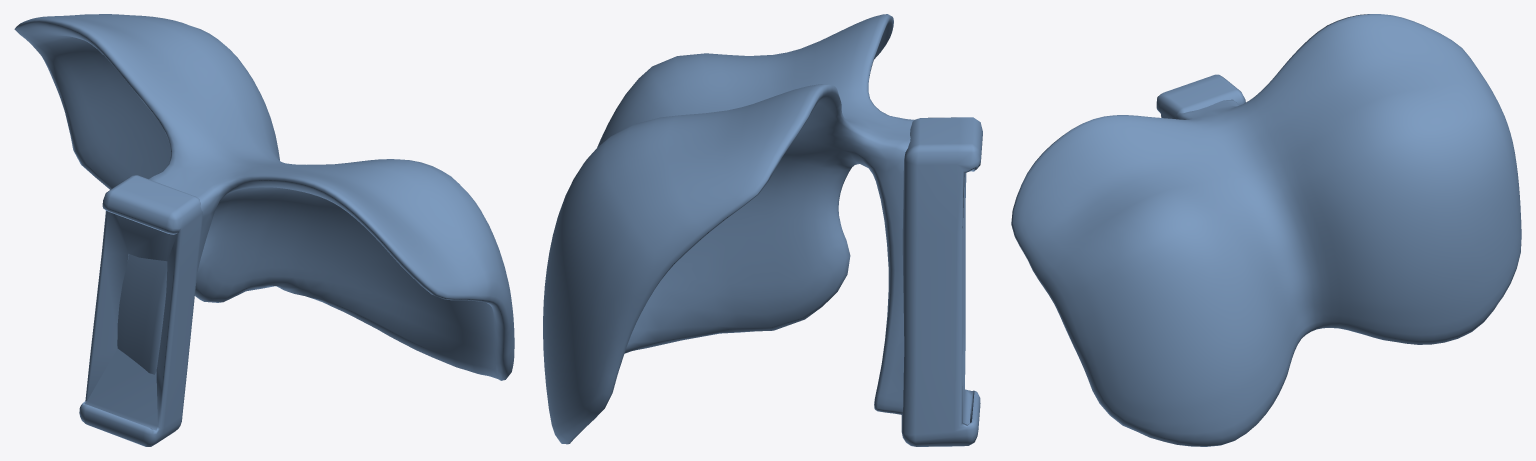
File: BL4_Spacers_BaguetteMetal.001 2.glb
The picture shows the model from 3 angles, left to right: view 1: azimuth 30°, elevation 25°; view 2: azimuth 150°, elevation 25°; view 3: azimuth 270°, elevation 25°; orthographic projection. The views are drawn at different scales.
Visible parts, largest first — view 1: BL4_Spacers_BaguetteMetal.001; view 2: BL4_Spacers_BaguetteMetal.001; view 3: BL4_Spacers_BaguetteMetal.001.
Part boxes in pixels (<box>): BL4_Spacers_BaguetteMetal.001: <box>14,14,514,446</box>; BL4_Spacers_BaguetteMetal.001: <box>543,14,982,446</box>; BL4_Spacers_BaguetteMetal.001: <box>1011,14,1521,446</box>.
Bounding box in the file's own units: 0.9198 × 0.8186 × 1.24.
